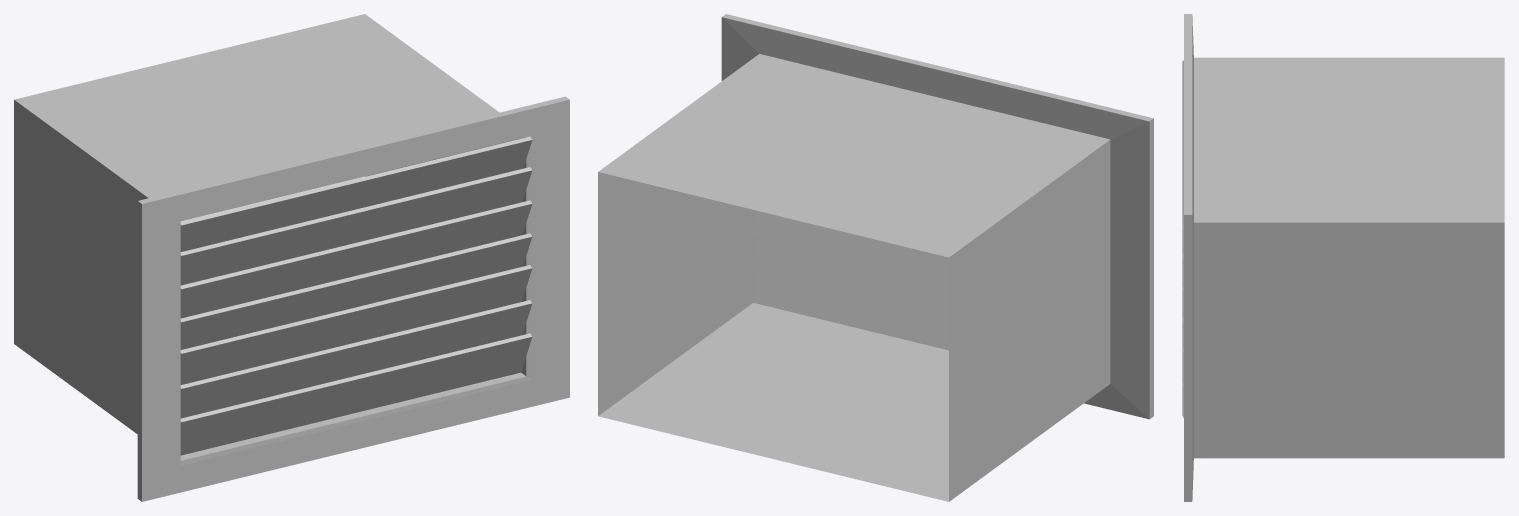
Rendered from SM_Airing_01.FBX.
The picture shows the model from 3 angles, left to right: view 1: azimuth 30°, elevation 25°; view 2: azimuth 150°, elevation 25°; view 3: azimuth 270°, elevation 25°; orthographic projection. The views are drawn at different scales.
Parts seen in each view (by area): view 1: SM_Airing_01; view 2: SM_Airing_01; view 3: SM_Airing_01.
Part boxes in pixels (left/top/right/bottom): SM_Airing_01: left=14, top=14, right=569, bottom=501; SM_Airing_01: left=598, top=14, right=1153, bottom=501; SM_Airing_01: left=1182, top=14, right=1504, bottom=501.
Size of the model in its own units: 60.94 by 40.55 by 41.3.
Materials: 1 (1 with a texture image).
